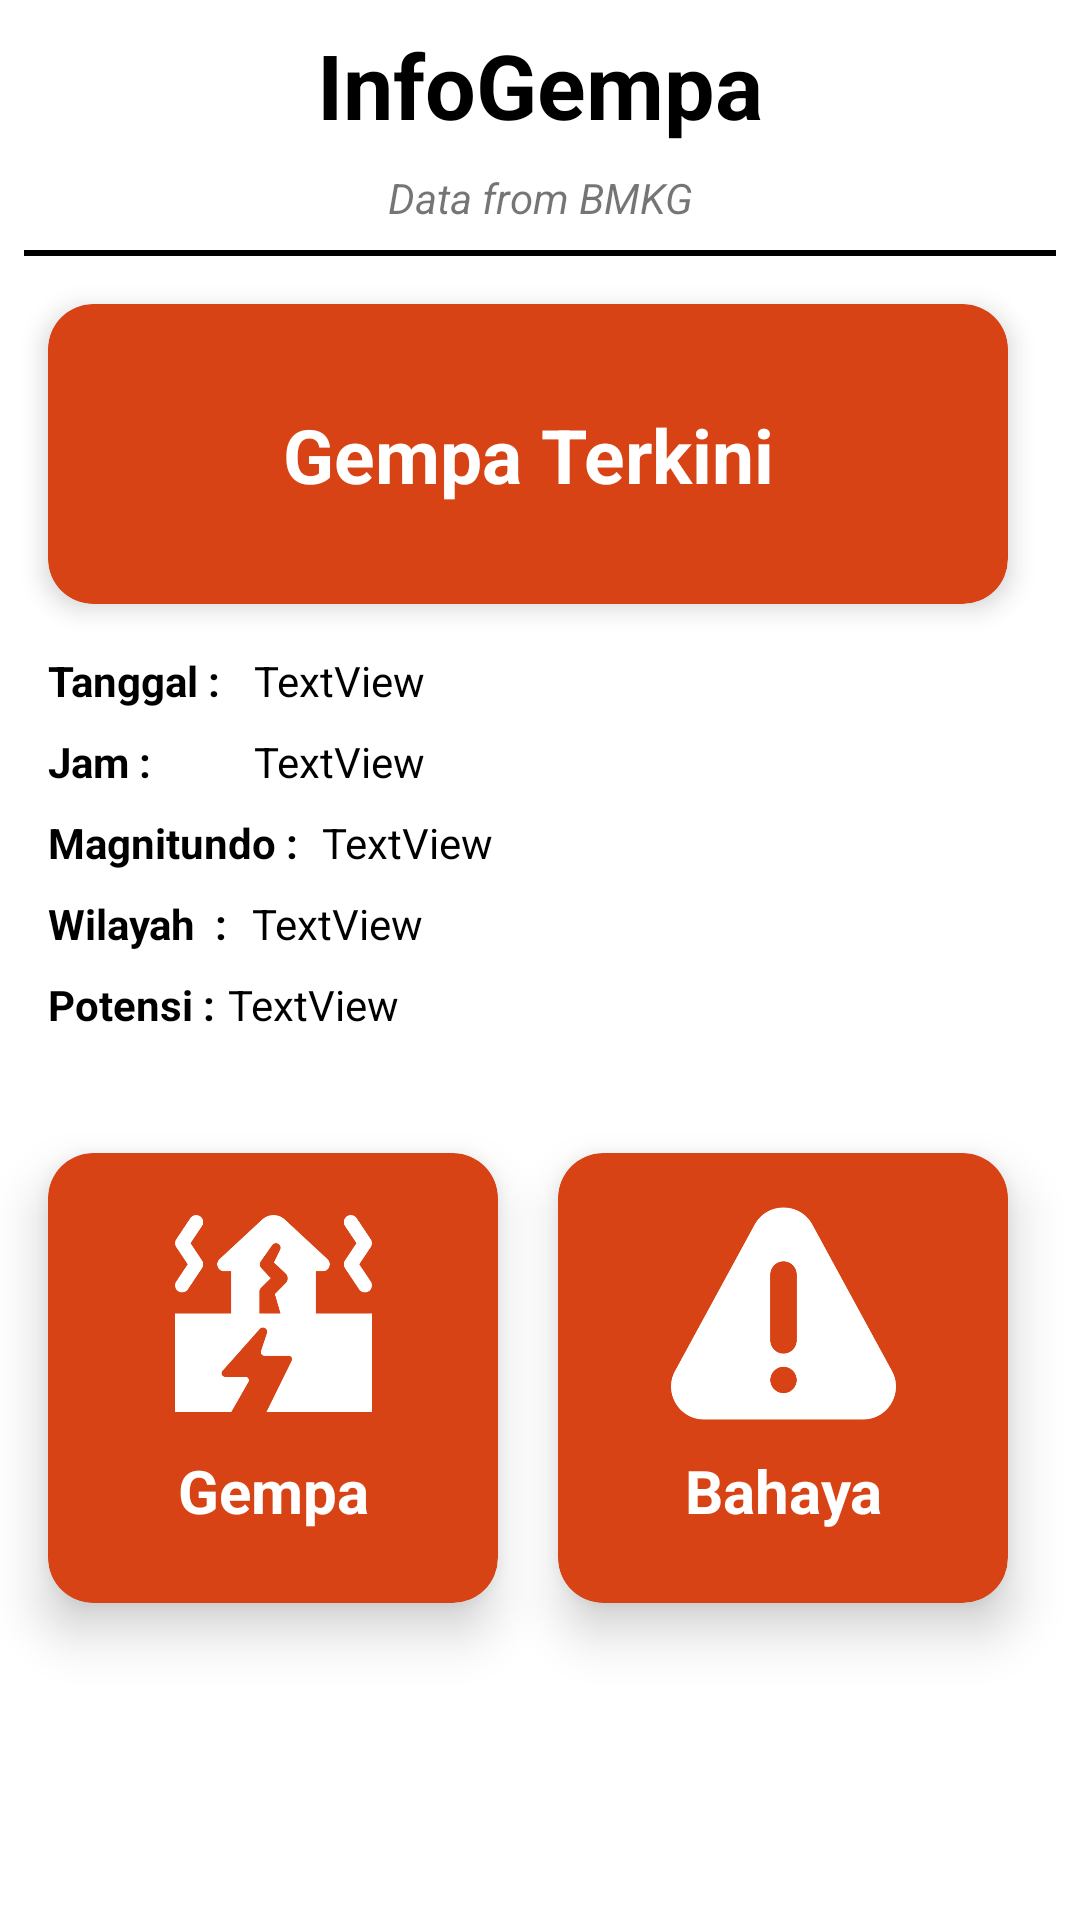

Icons on this 1080 × 1920 Android screen, each with the point to tap as [x,y]:
warning: [783,1313]
